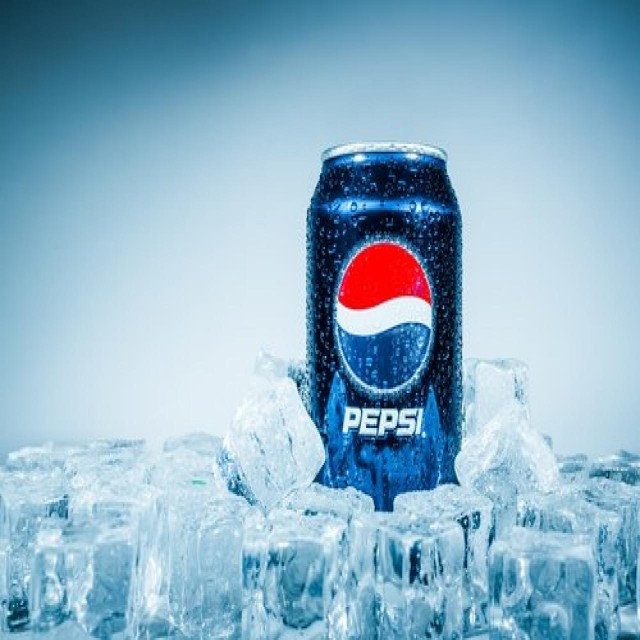pepsi: (337, 245, 436, 393)
